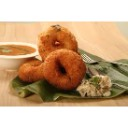vada: (46, 49, 87, 91), (41, 23, 81, 63), (16, 59, 49, 79)
